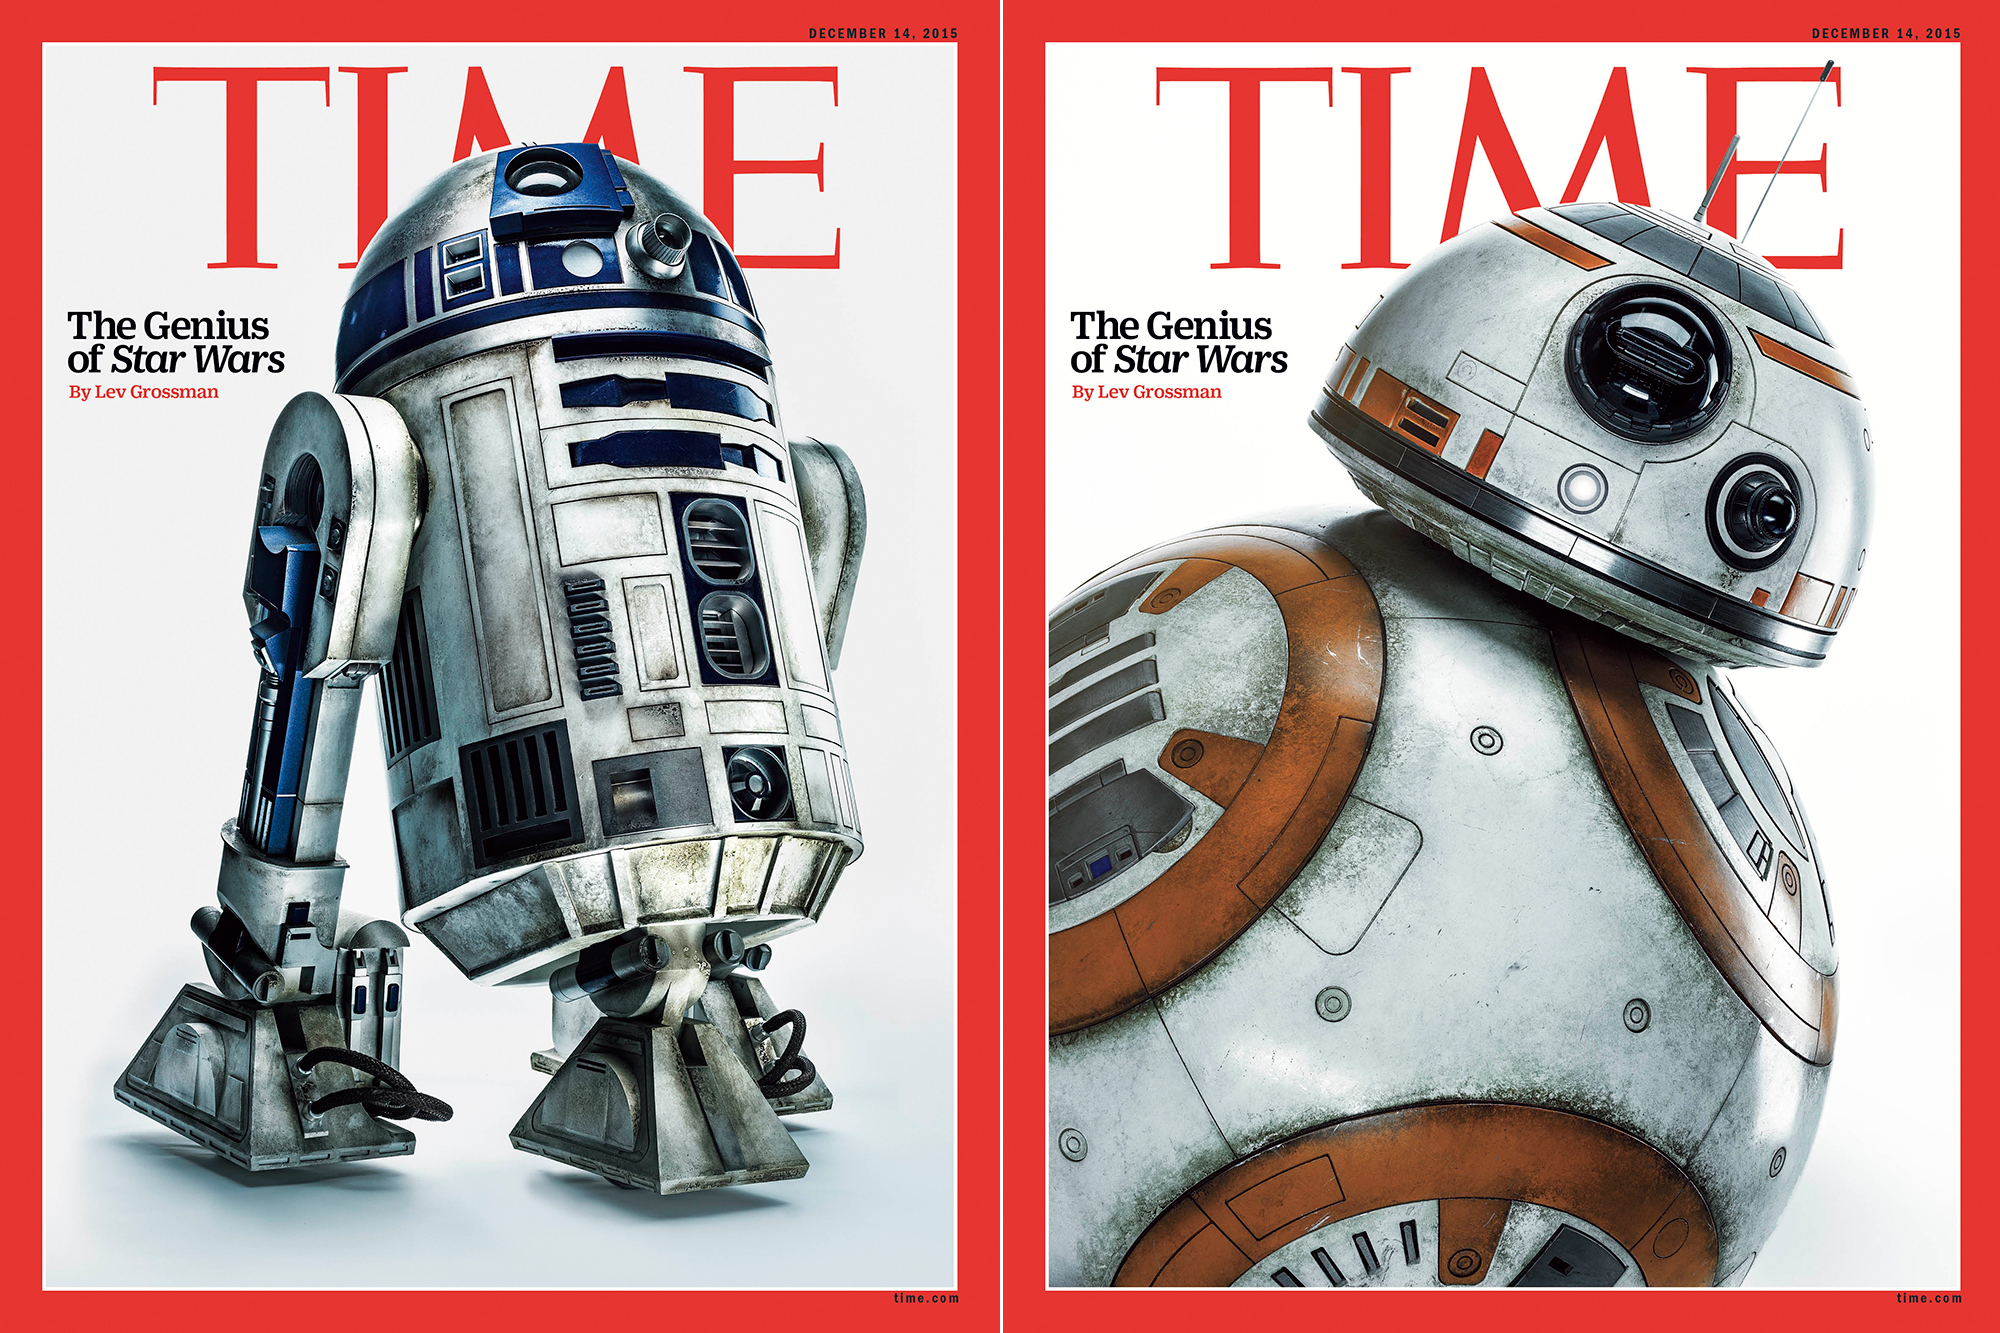r2d2: (164, 153, 867, 1195)
